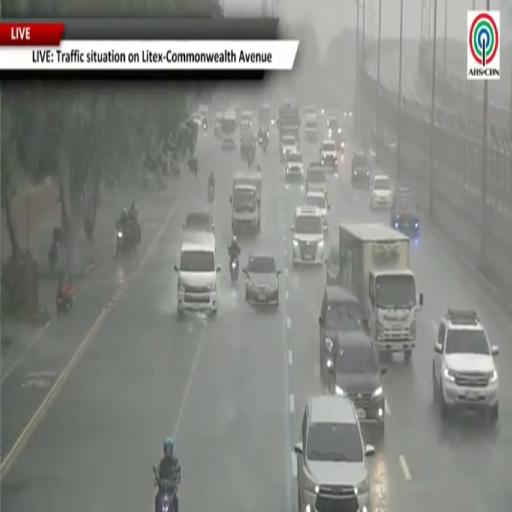car: (295, 395, 375, 511), (433, 310, 498, 424), (328, 332, 387, 440), (319, 285, 366, 381), (175, 232, 220, 316), (243, 255, 280, 308), (291, 206, 324, 265), (391, 187, 420, 237), (304, 190, 329, 231), (370, 175, 392, 209), (351, 152, 371, 188), (306, 164, 327, 198), (183, 210, 214, 233), (327, 117, 344, 153), (320, 138, 338, 172), (326, 242, 339, 285), (285, 152, 304, 181), (280, 135, 298, 162), (304, 115, 319, 140), (240, 111, 253, 131), (199, 105, 208, 130), (215, 112, 223, 138), (192, 112, 203, 126), (304, 105, 316, 116), (344, 110, 352, 119)
motorcycle: (153, 468, 177, 511), (116, 227, 136, 255), (56, 284, 74, 314), (48, 238, 58, 270), (230, 255, 239, 282), (259, 137, 267, 153), (248, 150, 255, 168), (208, 185, 214, 204)
truck: (339, 223, 423, 360), (230, 170, 261, 234), (278, 103, 300, 143), (221, 110, 237, 150)
